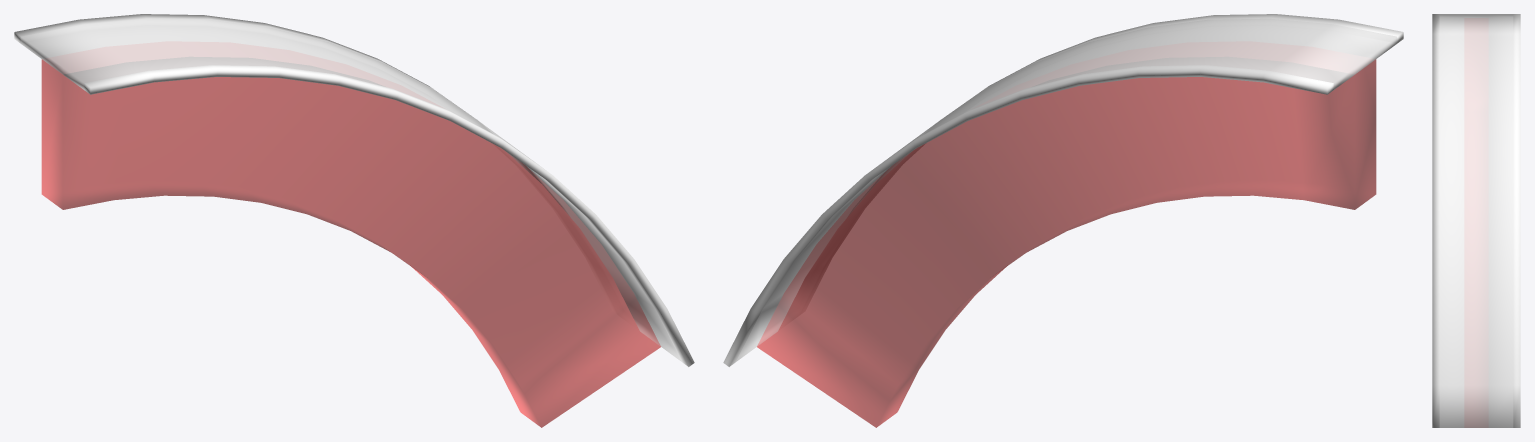
Rendered from FlickNote03.fbx.
3 renders of one model, left to right at view 1: azimuth 30°, elevation 25°; view 2: azimuth 150°, elevation 25°; view 3: azimuth 270°, elevation 25°, orthographic. The views are drawn at different scales.
Visible parts, largest first — view 1: FlickNote03; view 2: FlickNote03; view 3: FlickNote03.
Boxes of the visible parts, <box> form: FlickNote03: <box>14,14,694,427</box>; FlickNote03: <box>723,14,1403,427</box>; FlickNote03: <box>1432,14,1520,427</box>.
Size of the model in its own units: 91.51 by 20 by 69.03.
